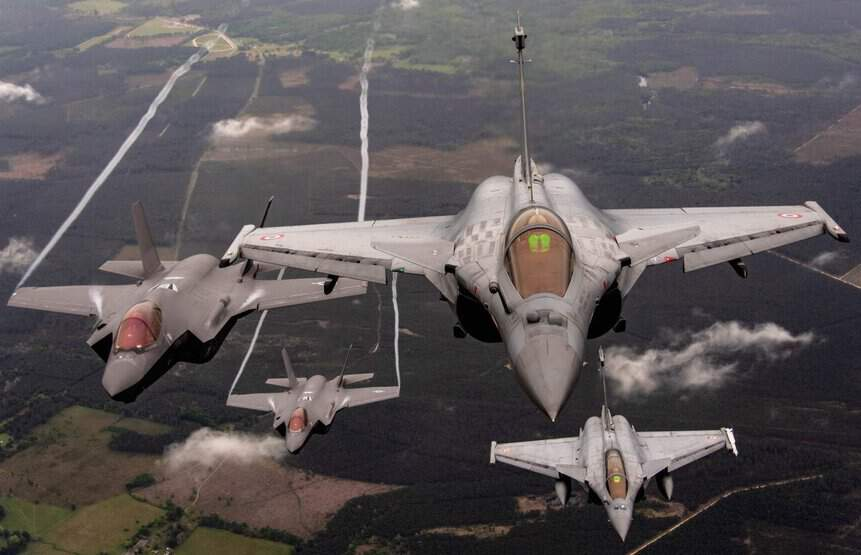F35: (2, 195, 377, 408), (224, 344, 408, 458)
Rafale: (216, 10, 852, 429), (484, 346, 747, 546)
